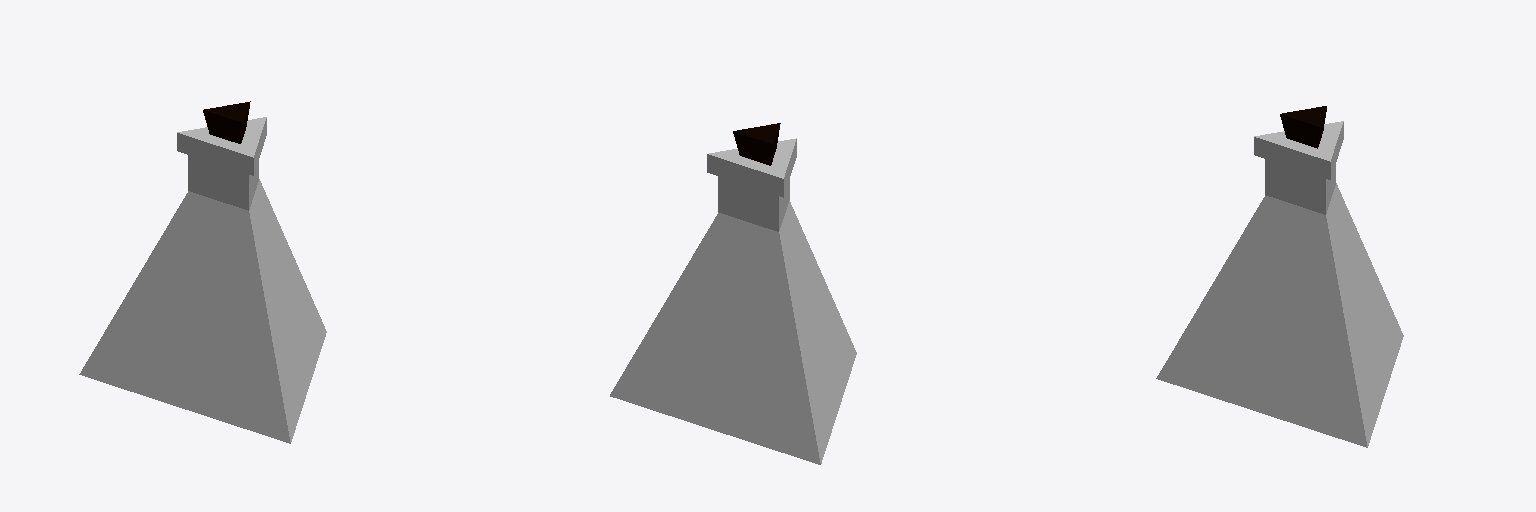
Rendered from flask_3.obj.
3 views of the same model, side by side, from view 1: azimuth 30°, elevation 25°; view 2: azimuth 150°, elevation 25°; view 3: azimuth 270°, elevation 25° (orthographic).
Visible parts, largest first — view 1: 21_Цилиндр; view 2: 21_Цилиндр; view 3: 21_Цилиндр.
Boxes of the visible parts, x1=… form: 21_Цилиндр: x1=79, y1=101, x2=326, y2=443; 21_Цилиндр: x1=610, y1=123, x2=856, y2=464; 21_Цилиндр: x1=1156, y1=106, x2=1403, y2=447.
Bounding box in the file's own units: 0.6885 × 0.7793 × 0.6432.